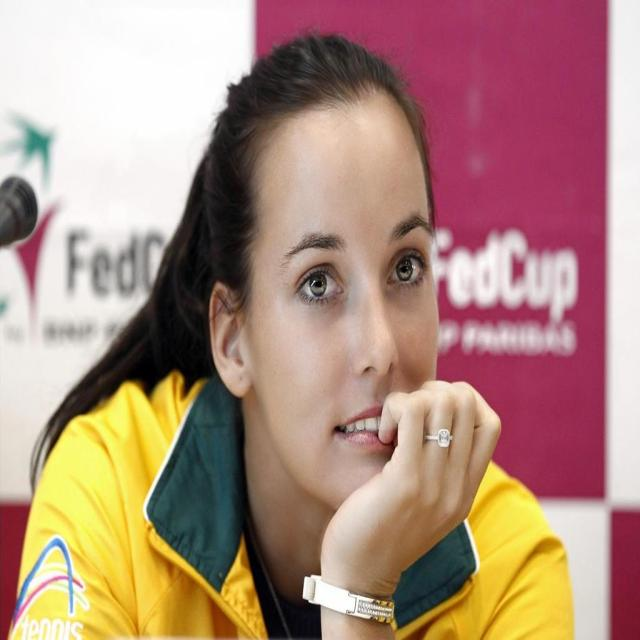Face: (241, 100, 459, 525)
